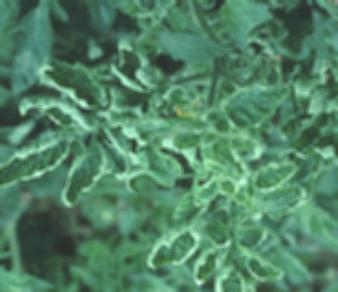Tomato leaf yellow virus: (0, 45, 114, 110), (0, 124, 82, 192), (217, 74, 299, 134), (231, 150, 303, 204), (0, 93, 105, 129), (52, 147, 97, 216), (256, 171, 316, 222), (146, 227, 205, 269), (234, 248, 301, 280), (213, 246, 248, 292)
